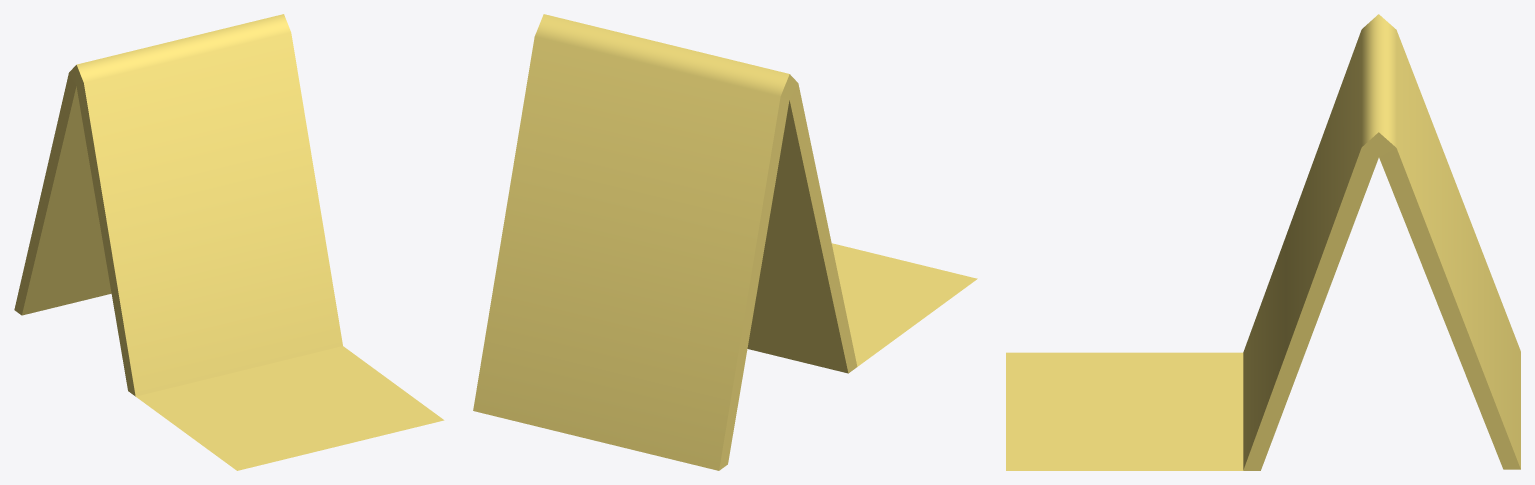
The model's file is EvidenceMarker.FBX.
The picture shows the model from 3 angles, left to right: view 1: azimuth 30°, elevation 25°; view 2: azimuth 150°, elevation 25°; view 3: azimuth 270°, elevation 25°; orthographic projection. The views are drawn at different scales.
Parts seen in each view (by area): view 1: EvidenceMarker; view 2: EvidenceMarker; view 3: EvidenceMarker.
Part boxes in pixels (box(x1,y1,x2,y2)): EvidenceMarker: box(14, 14, 444, 470); EvidenceMarker: box(473, 14, 977, 470); EvidenceMarker: box(1006, 14, 1520, 470).
Bounding box in the file's own units: 0.0764 × 0.1008 × 0.1391.
